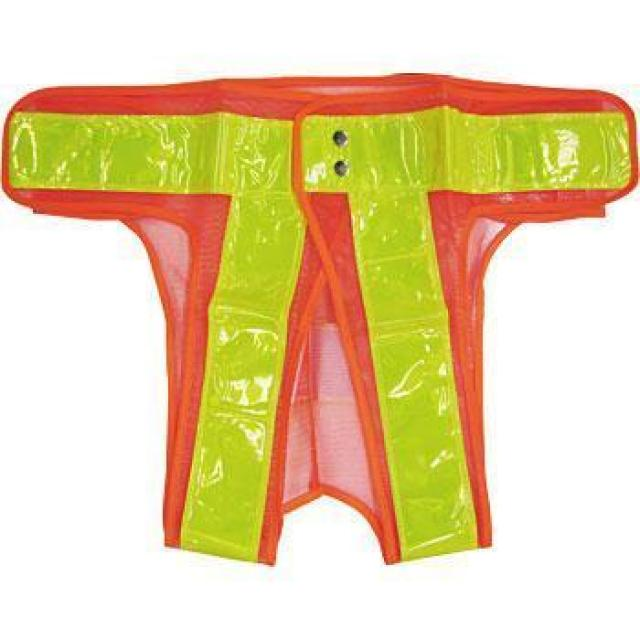jacket: (5, 61, 640, 558)
